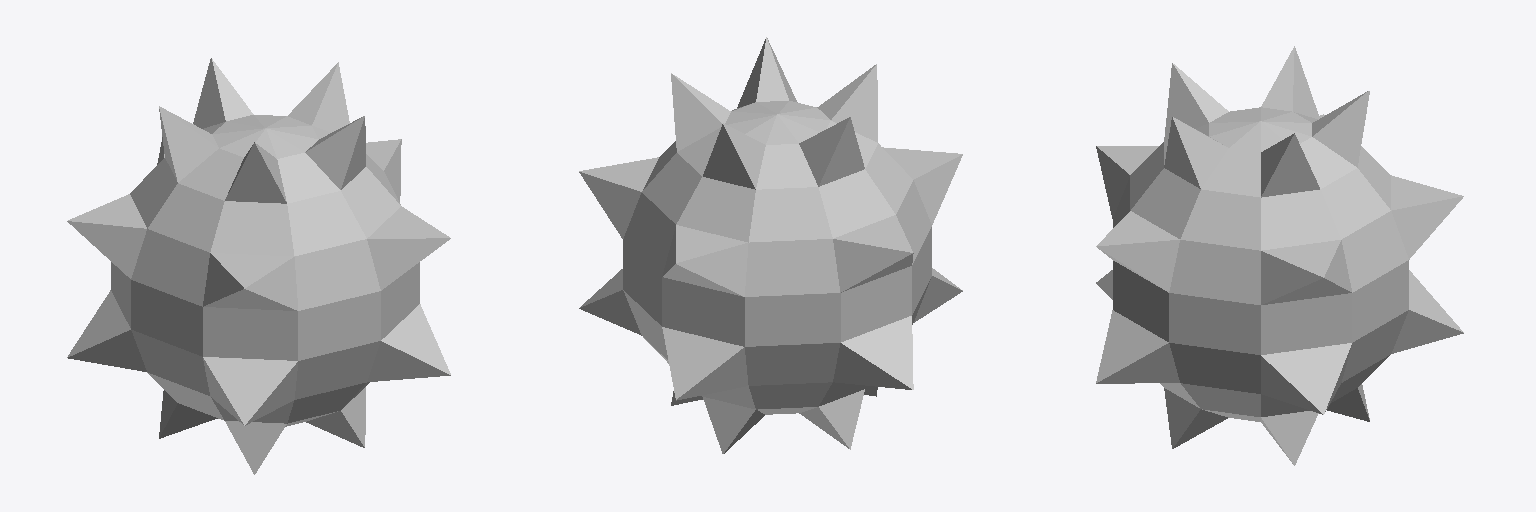
The model's file is mine.obj.
3 renders of one model, left to right at view 1: azimuth 30°, elevation 25°; view 2: azimuth 150°, elevation 25°; view 3: azimuth 270°, elevation 25°, orthographic.
Size of the model in its own units: 2.44 by 2.32 by 2.33.